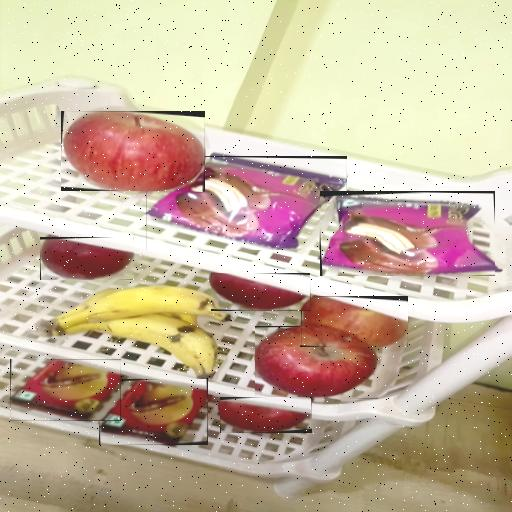Apple: (61, 111, 205, 191), (256, 326, 380, 399), (301, 296, 408, 347), (40, 237, 134, 280), (212, 273, 312, 311), (220, 397, 312, 433)
Choco Fills: (99, 379, 208, 445), (10, 359, 121, 421)
Choco Pie: (146, 156, 347, 250), (320, 191, 495, 276)
